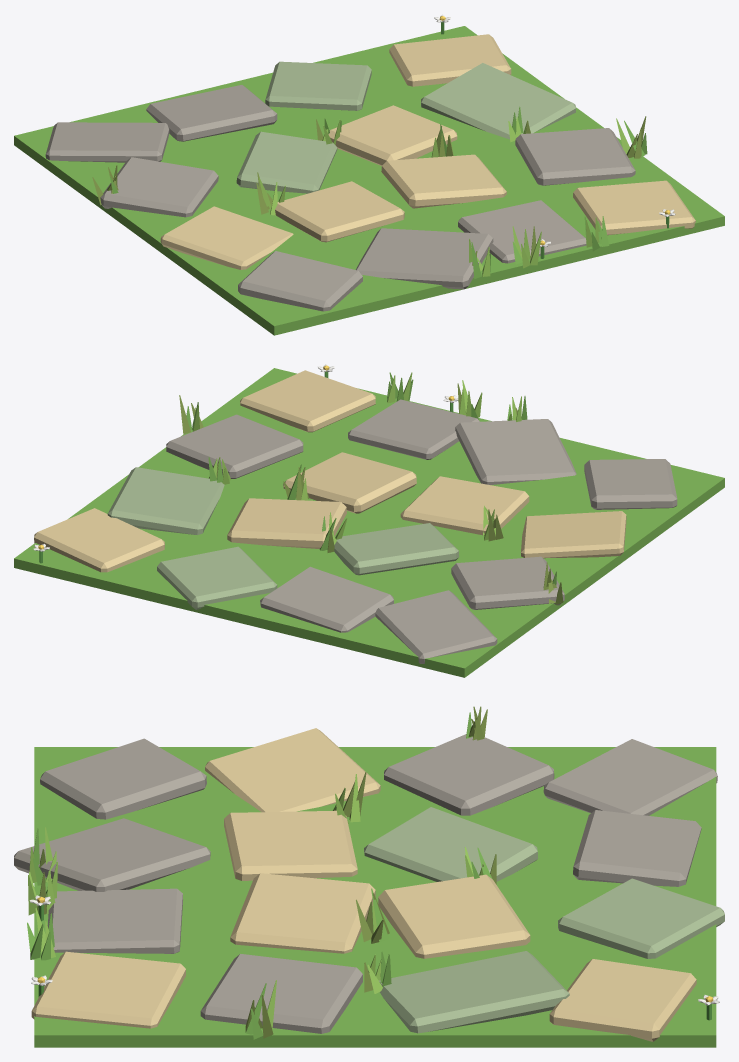
Rendered from stone_path_tile.glb.
The picture shows the model from 3 angles, top to bottom: view 1: azimuth 30°, elevation 25°; view 2: azimuth 150°, elevation 25°; view 3: azimuth 270°, elevation 25°; orthographic projection. The views are drawn at different scales.
Visible parts, largest first — view 1: Stone Path Tile; view 2: Stone Path Tile; view 3: Stone Path Tile.
Boxes of the visible parts, <box> form: Stone Path Tile: <box>14,14,724,335</box>; Stone Path Tile: <box>14,364,724,677</box>; Stone Path Tile: <box>14,706,724,1047</box>.
Size of the model in its own units: 2.08 by 0.2 by 2.09.
Materials: 1 (1 with a texture image).
